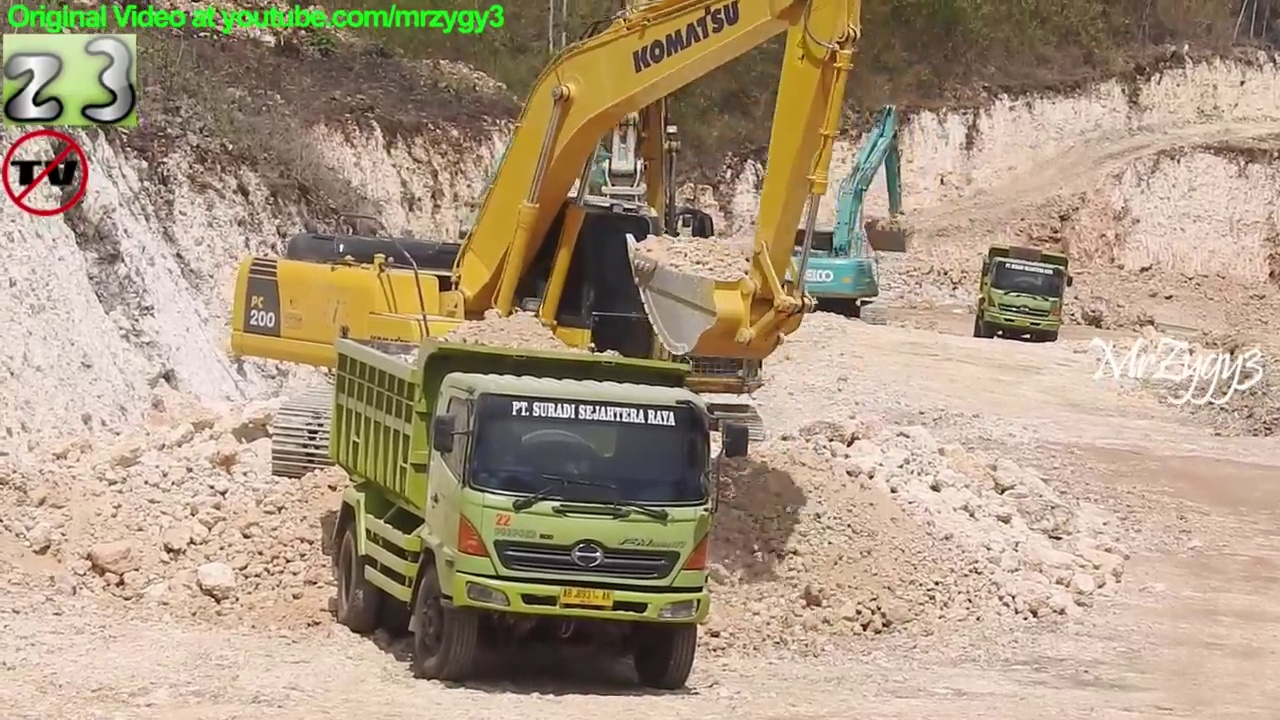excavator: (229, 2, 871, 483), (427, 1, 791, 478), (743, 100, 915, 317)
truck: (324, 323, 754, 696), (971, 243, 1077, 347)
